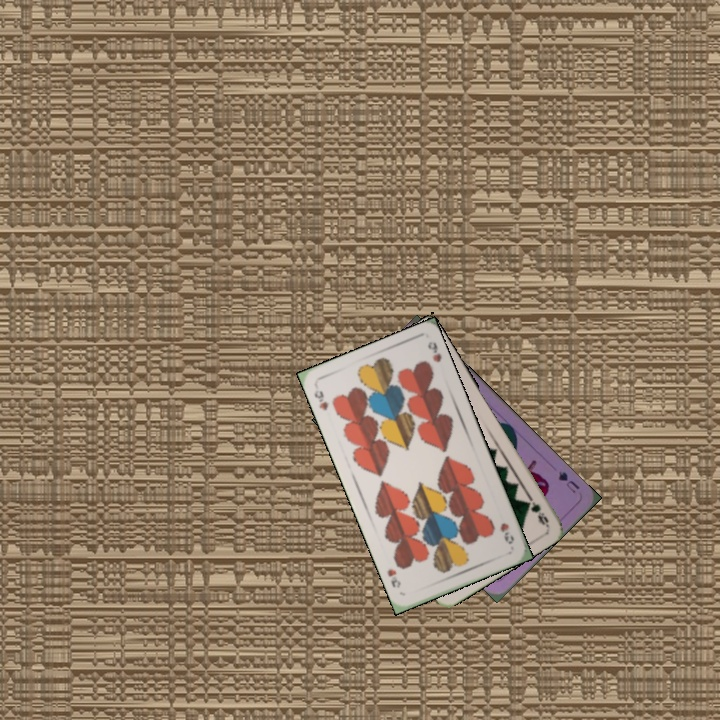G9: (522, 492, 551, 529)
GU: (554, 467, 582, 496)
H9: (496, 519, 517, 547), (310, 386, 331, 413)
